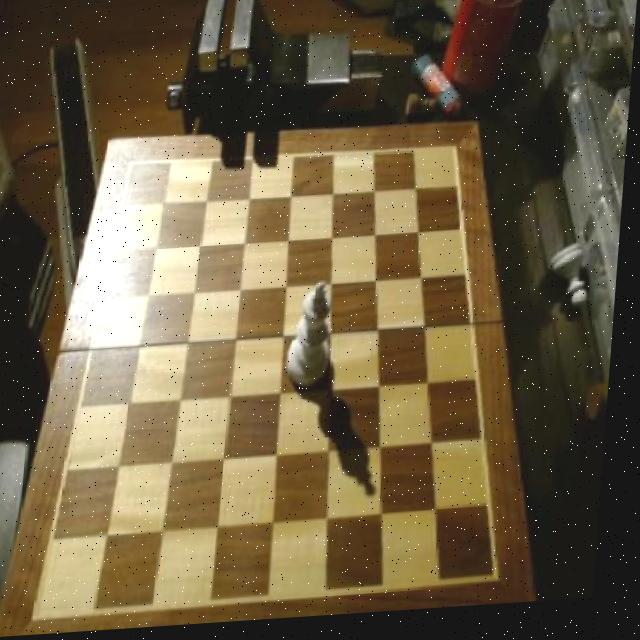white-bishop: (289, 281, 341, 399)
